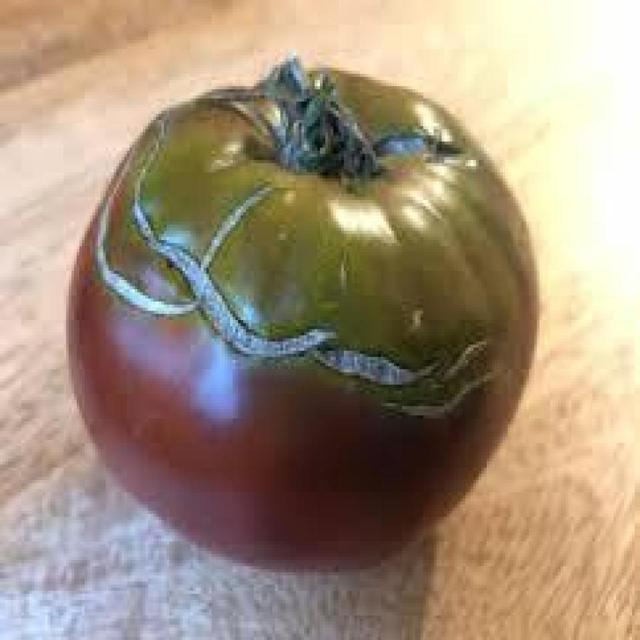Cracking Fruit: (110, 60, 270, 231)
